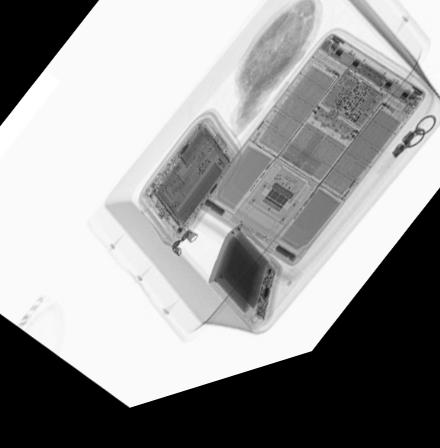Powerbank: (212, 232, 281, 339)
